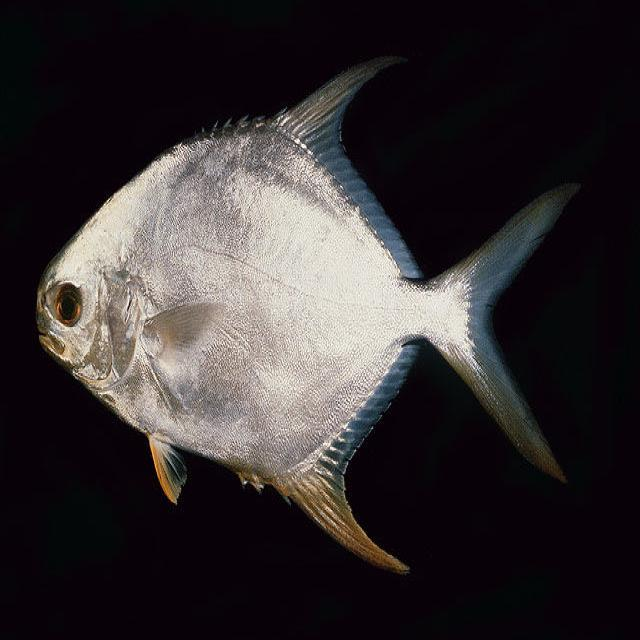ikan: (34, 50, 581, 576)
